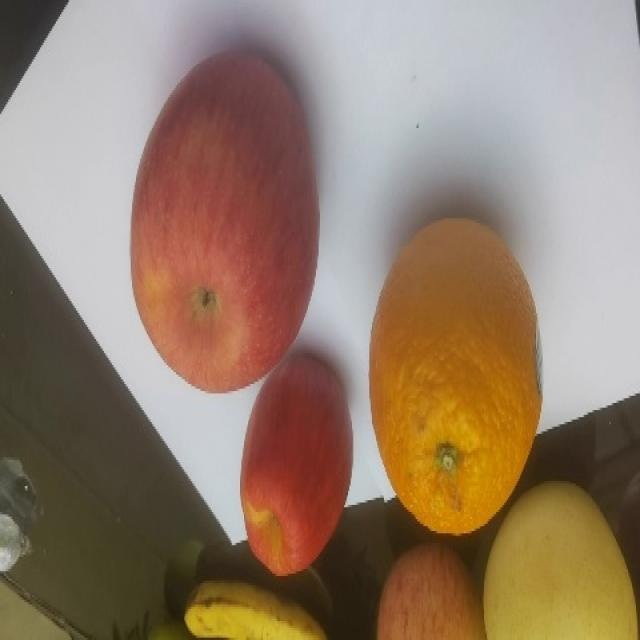Apple: (129, 48, 320, 393), (239, 352, 353, 576), (375, 541, 485, 639)
Orange: (367, 216, 542, 535)
